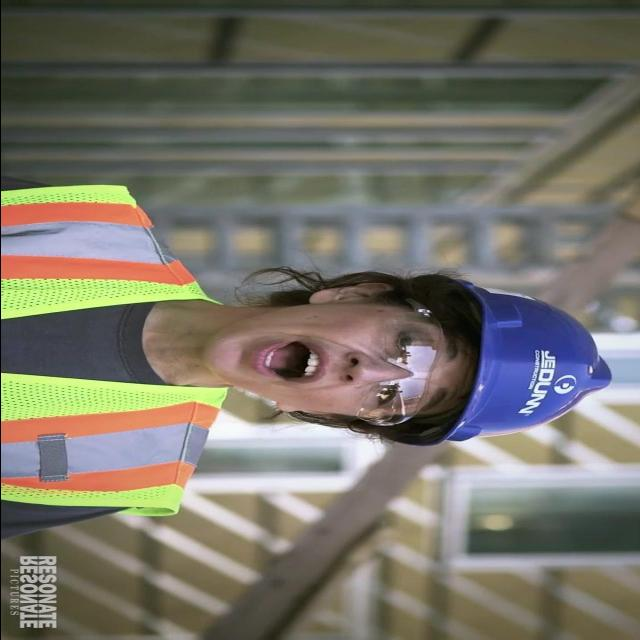helmet: (415, 276, 627, 456)
jacket: (1, 165, 260, 539)
